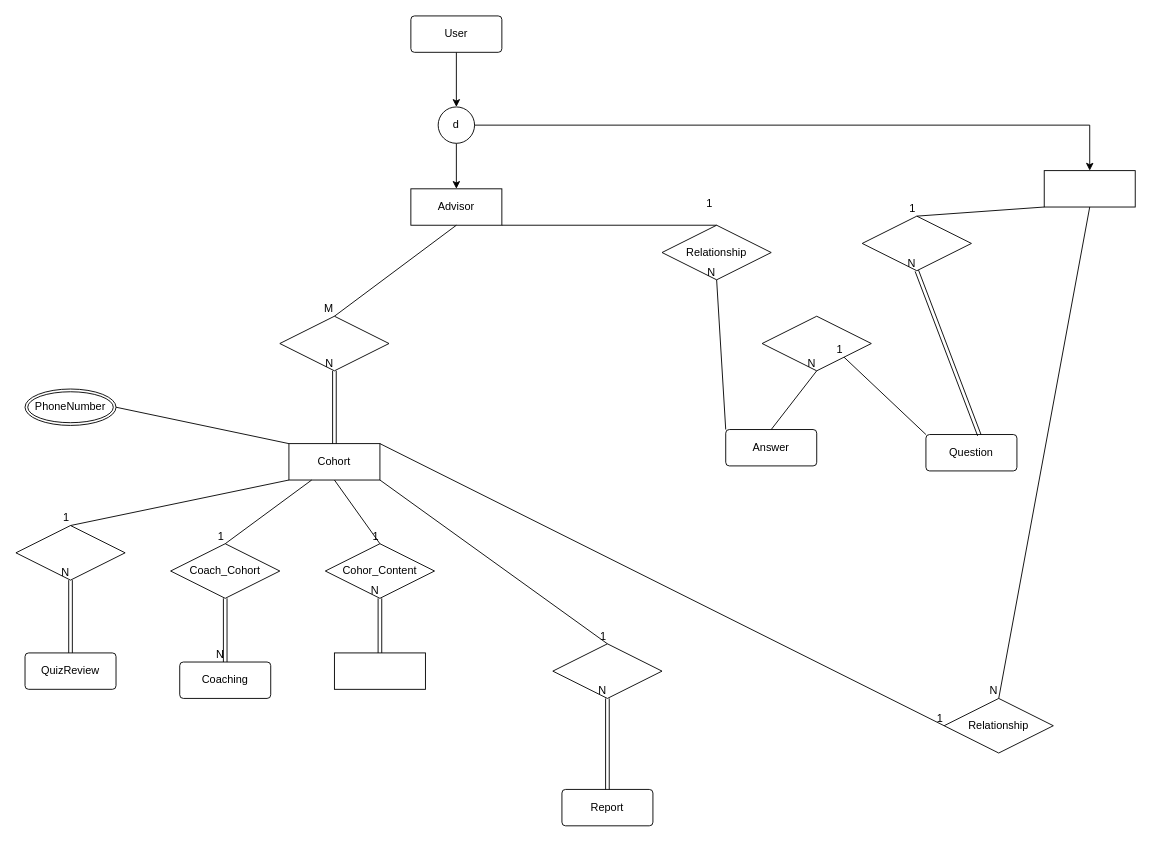
This 1151x842 diagram has some shape labels left out. Each missing label, with the box of its shape:
Advisor_Cohort: (279, 315, 389, 371)
Content: (334, 652, 425, 689)
Question_Answer: (761, 315, 871, 371)
Question_Student: (861, 215, 971, 271)
Quiz_Cohor: (15, 525, 125, 580)
Report_Cohor: (552, 643, 662, 698)
Student: (1043, 170, 1135, 207)
